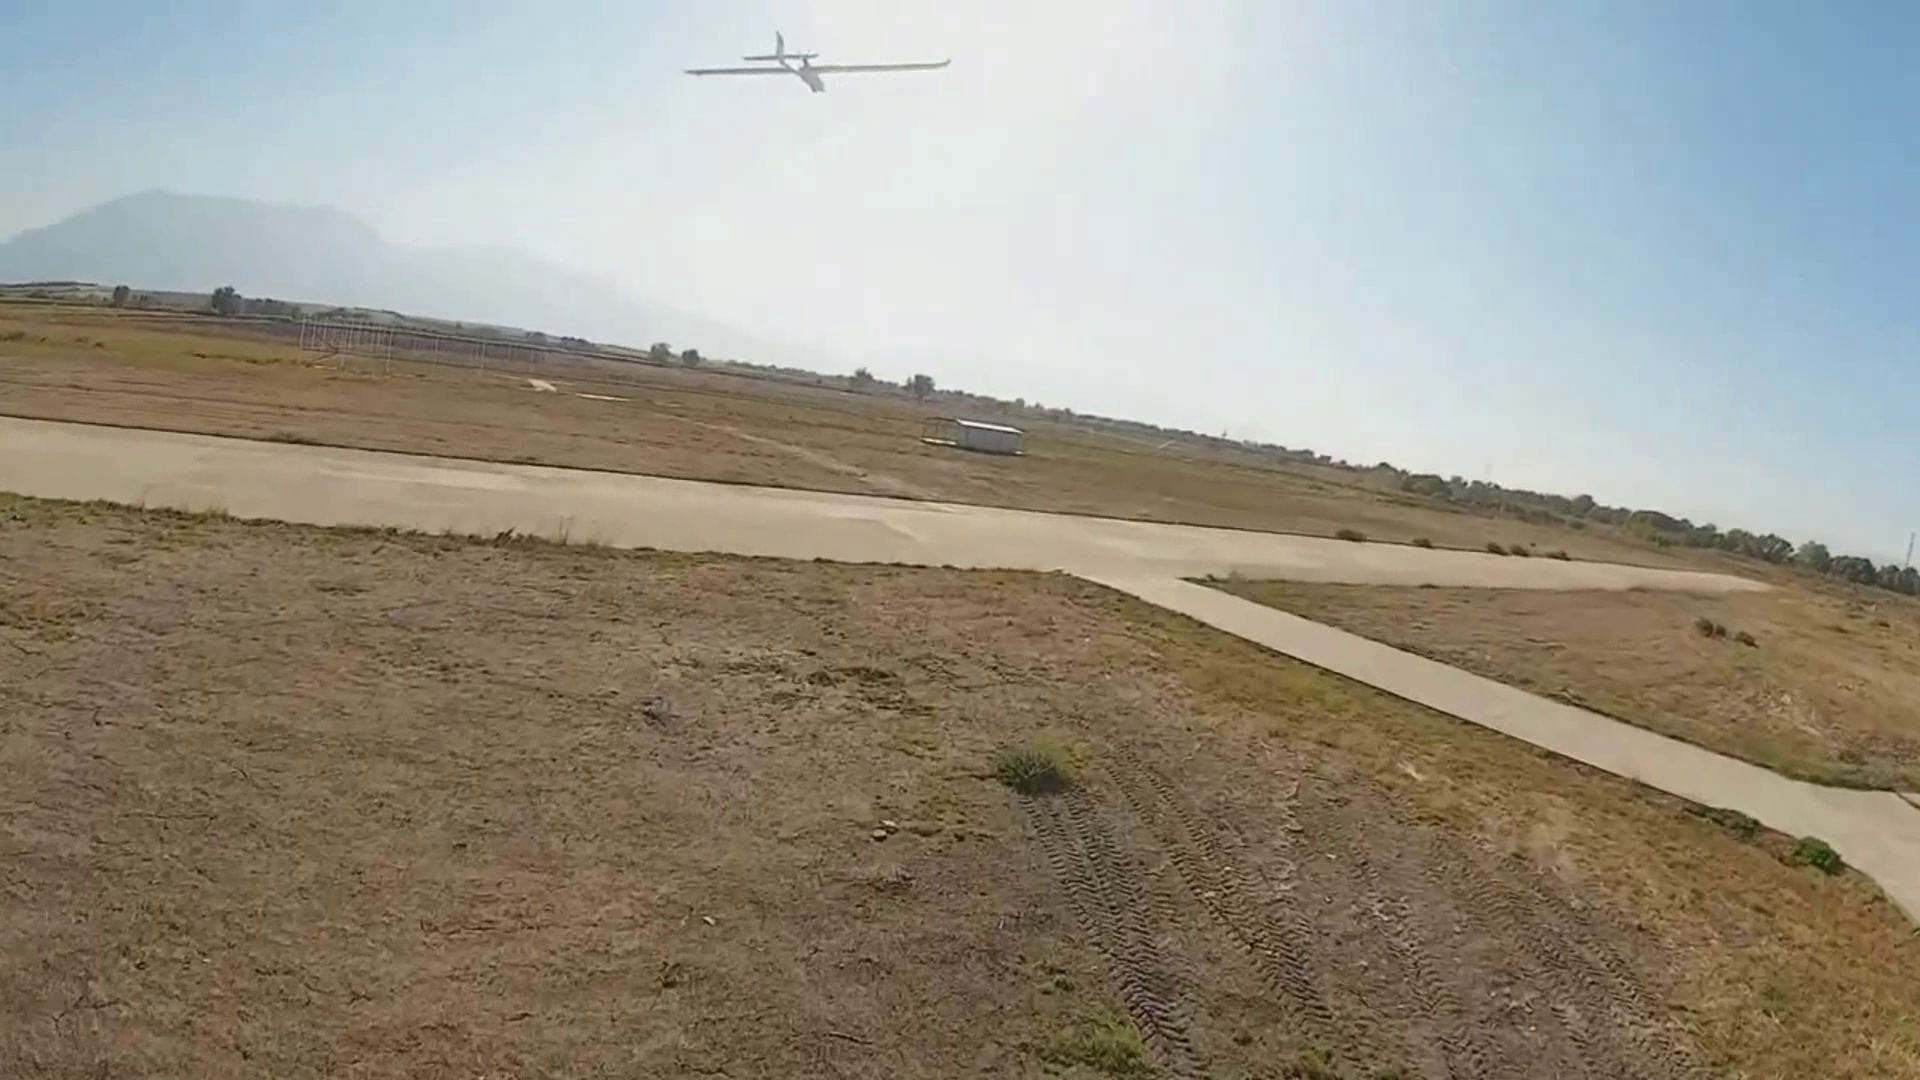airplane: (683, 26, 953, 92)
